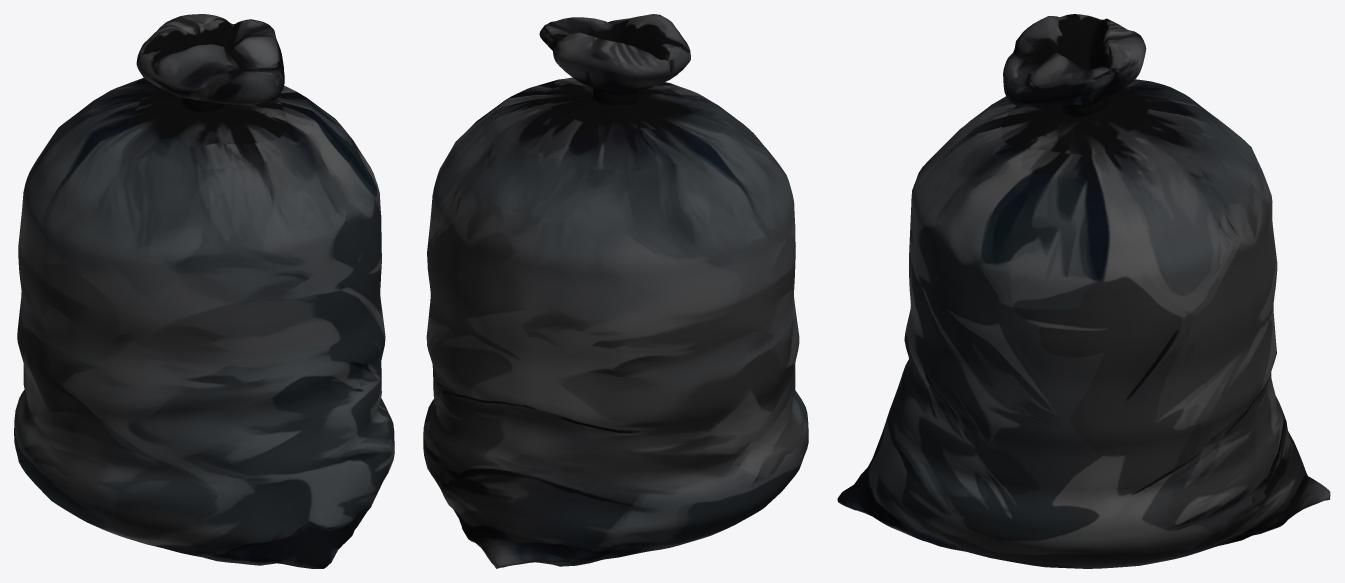
The model's file is garbage+bag.fbx.
3 views of the same model, side by side, from view 1: azimuth 30°, elevation 25°; view 2: azimuth 150°, elevation 25°; view 3: azimuth 270°, elevation 25° (orthographic). The views are drawn at different scales.
Visible parts, largest first — view 1: tripo_node_c3400890; view 2: tripo_node_c3400890; view 3: tripo_node_c3400890.
Part boxes in pixels (bbox=[...]): tripo_node_c3400890: bbox=[14, 14, 394, 568]; tripo_node_c3400890: bbox=[423, 14, 808, 568]; tripo_node_c3400890: bbox=[837, 14, 1330, 568].
Bounding box in the file's own units: 0.7054 × 0.9966 × 0.8942.
Materials: 1 (1 with a texture image).
